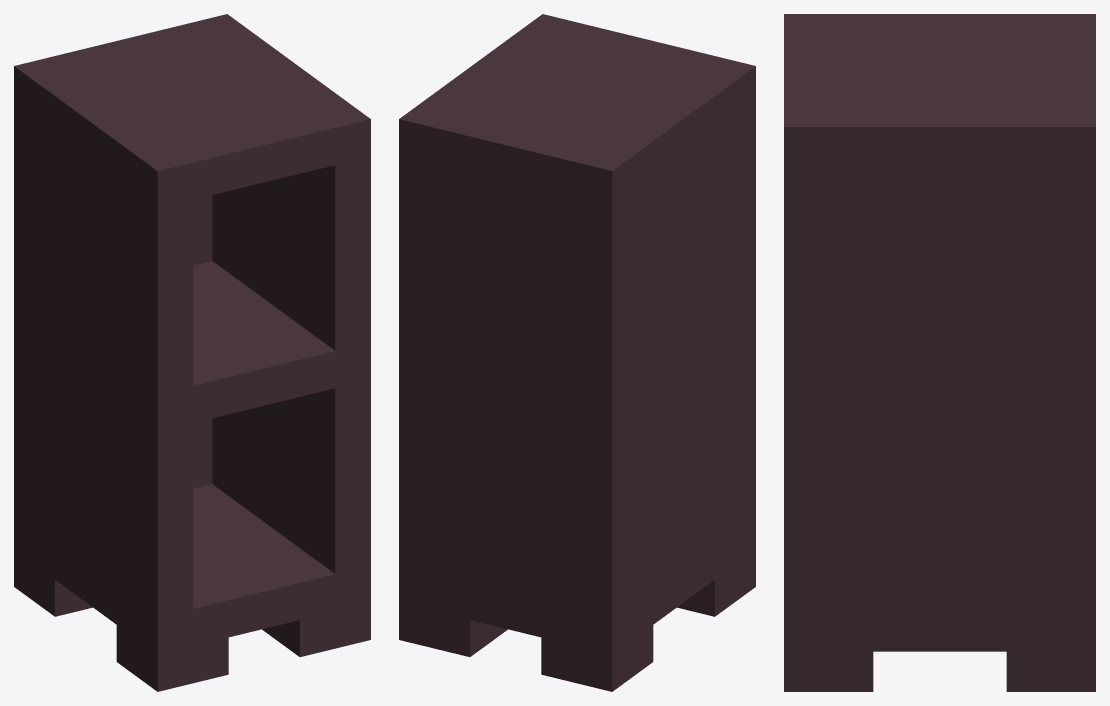
File: small_bookcase_c.obj
The picture shows the model from 3 angles, left to right: view 1: azimuth 30°, elevation 25°; view 2: azimuth 150°, elevation 25°; view 3: azimuth 270°, elevation 25°; orthographic projection. The views are drawn at different scales.
Bounding box in the file's own units: 0.6 × 1.4 × 0.7.
Materials: 1 (1 with a texture image).
